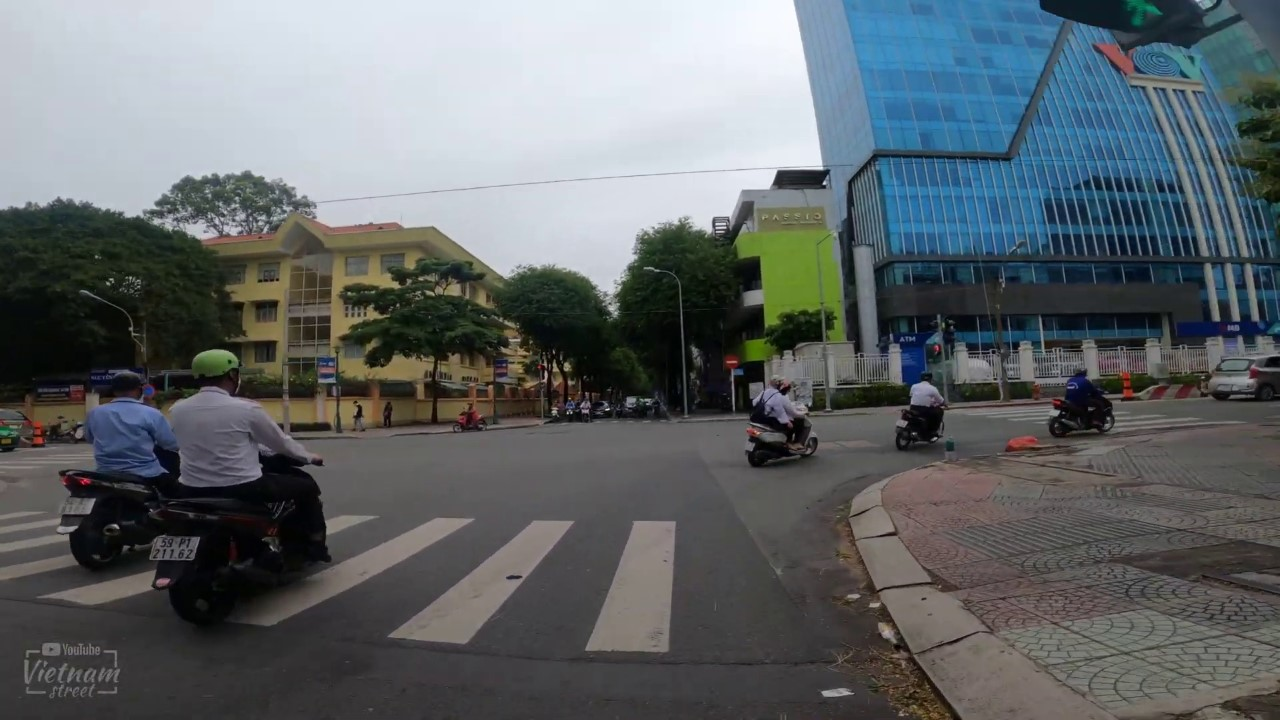cam_nguoc_chieu: (724, 355, 739, 370)
